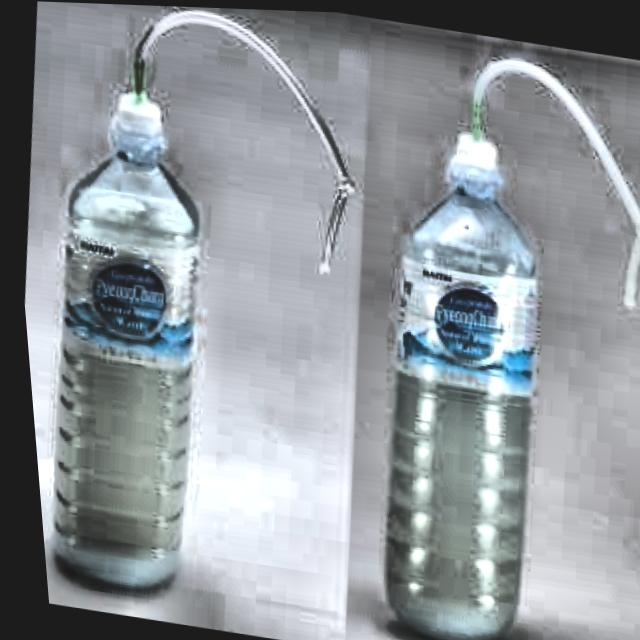Bottles: (320, 101, 592, 640), (4, 70, 262, 608)
